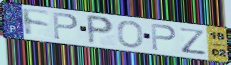F: (21, 7, 52, 38)
O: (117, 20, 145, 49)
P: (85, 13, 116, 46), (150, 22, 178, 52), (52, 11, 80, 41)
Z: (178, 27, 208, 56)
